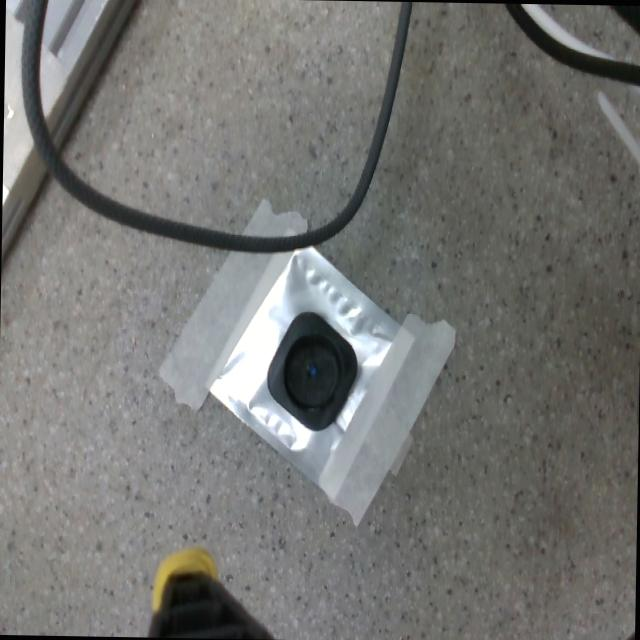cell: (266, 310, 358, 430)
